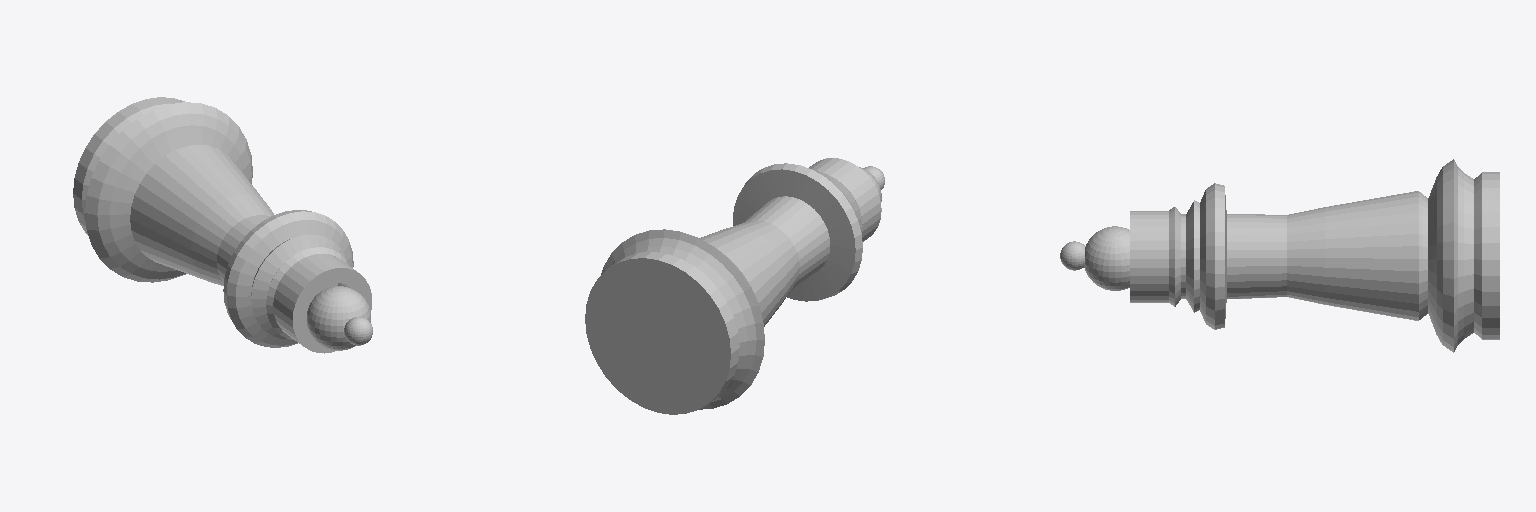
Rendered from queen.obj.
3 renders of one model, left to right at view 1: azimuth 30°, elevation 25°; view 2: azimuth 150°, elevation 25°; view 3: azimuth 270°, elevation 25°, orthographic.
Visible parts, largest first — view 1: Sphere; view 2: Sphere; view 3: Sphere.
Boxes of the visible parts, x1,y1,x2,y2 form: Sphere: [73, 97, 372, 353]; Sphere: [585, 158, 884, 414]; Sphere: [1060, 159, 1499, 352].
Size of the model in its own units: 2.3 by 2.3 by 5.22.